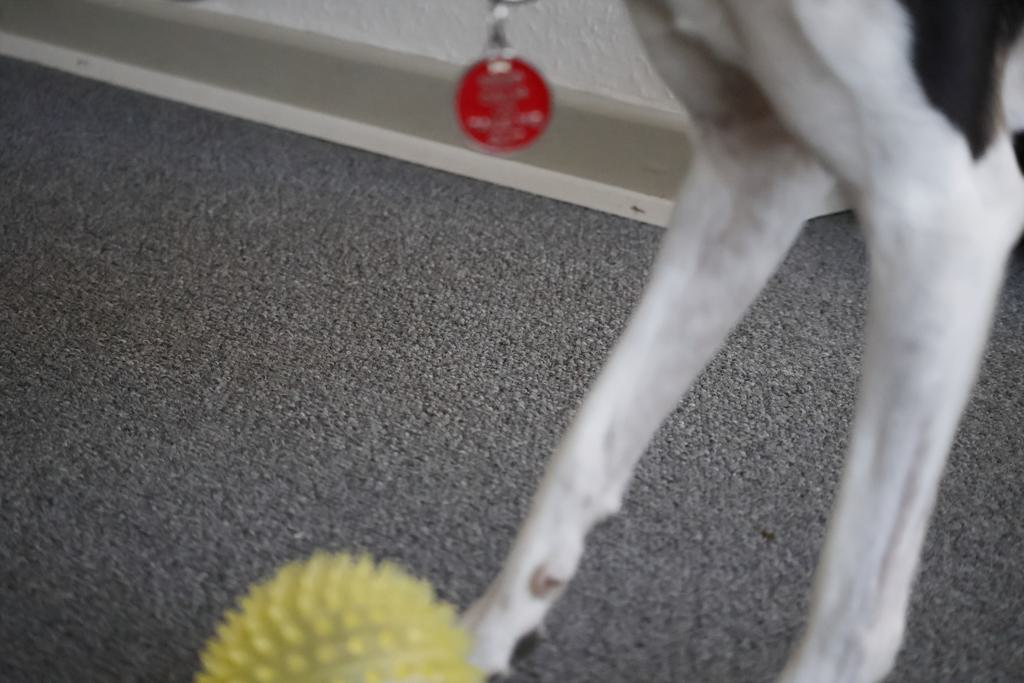Dog: (434, 0, 1024, 683)
